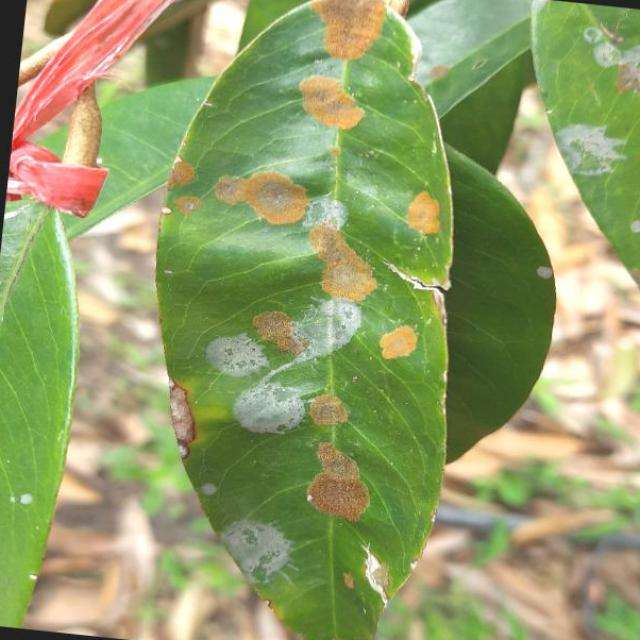Algal Leaf Spot: (108, 0, 510, 640)
